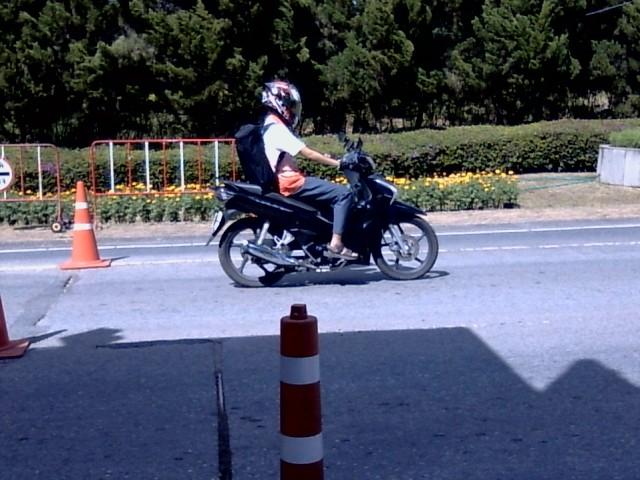helmet: (255, 75, 302, 125)
motor: (206, 136, 437, 286)
person: (261, 80, 357, 258)
